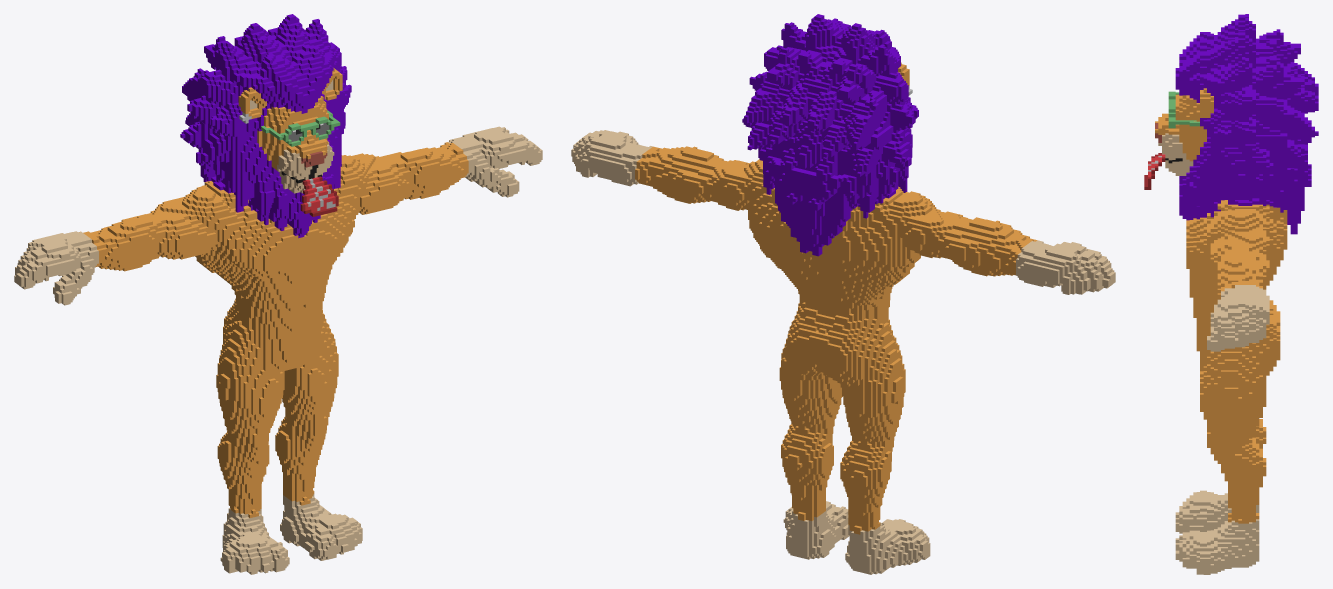
Rendered from 454-fwD1sZ9J.glb.
The picture shows the model from 3 angles, left to right: view 1: azimuth 30°, elevation 25°; view 2: azimuth 150°, elevation 25°; view 3: azimuth 270°, elevation 25°; orthographic projection. The views are drawn at different scales.
Parts seen in each view (by area): view 1: meat; view 2: meat; view 3: meat.
Boxes of the visible parts, x1,y1,x2,y2 form: meat: [14, 14, 542, 574]; meat: [571, 14, 1115, 574]; meat: [1144, 14, 1318, 574].
Size of the model in its own units: 17.2 by 16.5 by 5.
Materials: 5 (5 with a texture image).
